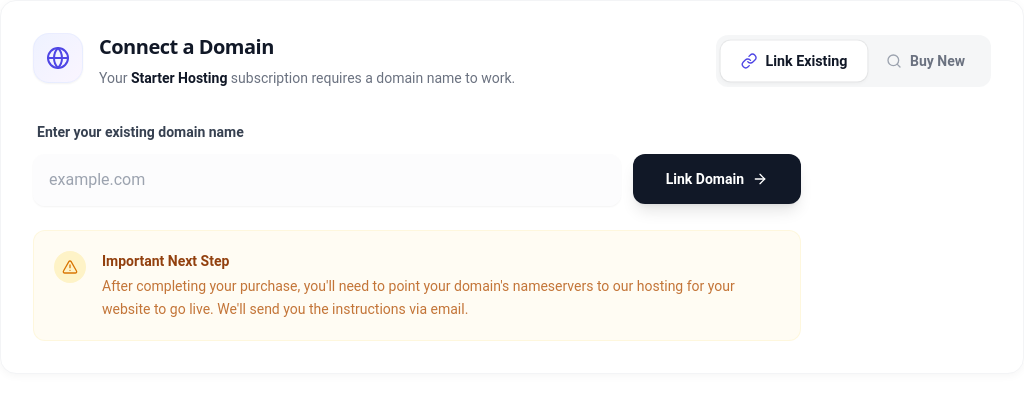
Test: <DomainSetup> › Link Existing tab › clears the inline error as soon as the user types again
Click the button "Link Domain": coordinates (717, 179) [633,154,801,204]
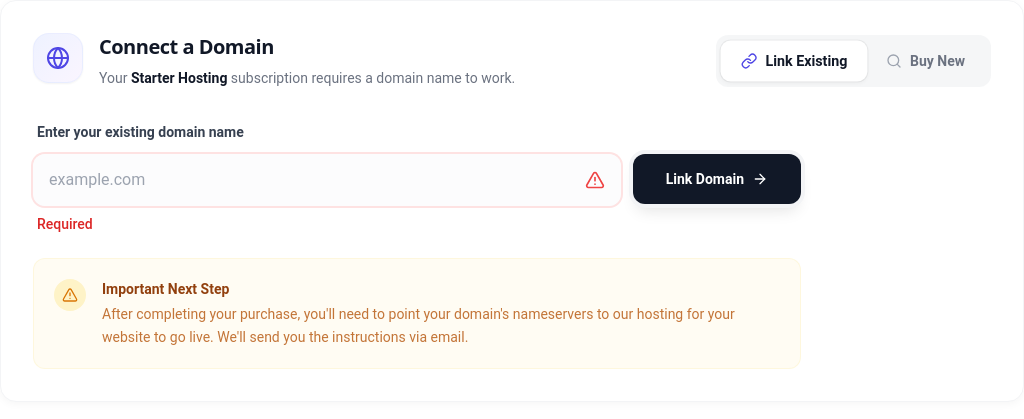
Expected: the text "Required" is shown, [37,216,93,232]
In the field with placeholder "example.com": coordinates (327, 180) [33,154,621,206], type "e"
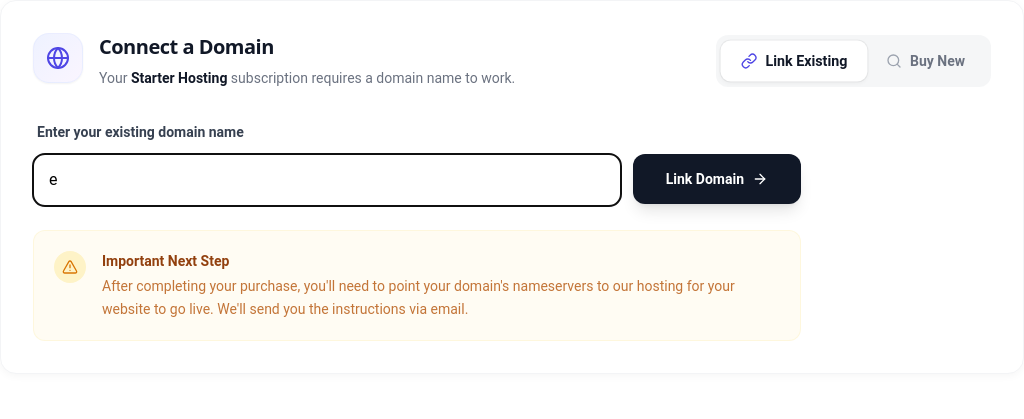
Expected: the text "Required" is gone
